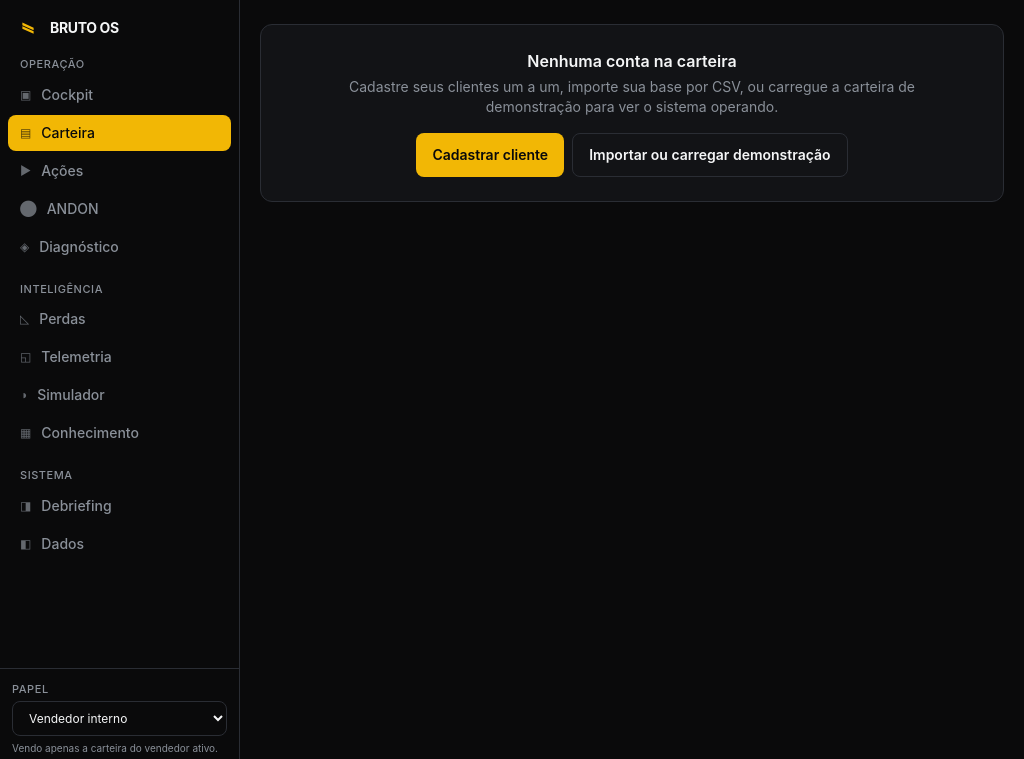
cadastro manual, sem CSV e sem demonstração › sem frota informada, a conta nasce com a lacuna explícita
Expected: the text "Nenhuma conta na carteira" is shown, [527, 51, 737, 71]
Click the button "Cadastrar cliente" at [490, 155], box [416, 133, 564, 177]
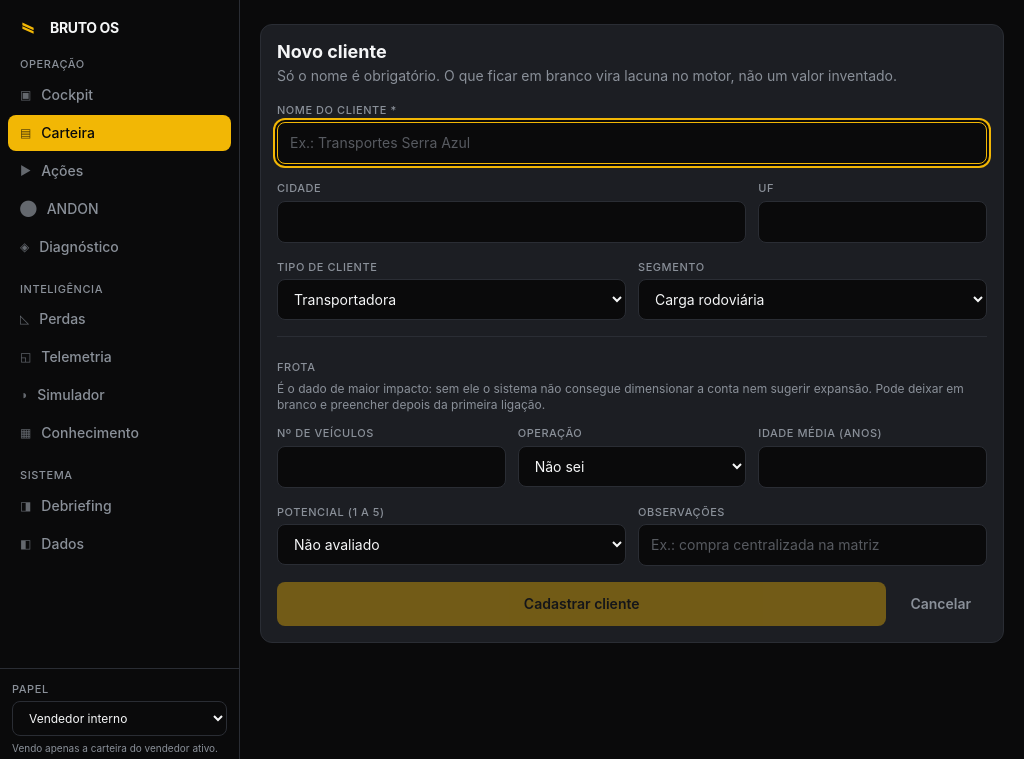
Expected: the heading "Novo cliente" is shown, [277, 41, 387, 62]
Type "Oficina Sem Frota" into the field labelled "Nome do cliente *" at [632, 143], box [277, 122, 987, 164]
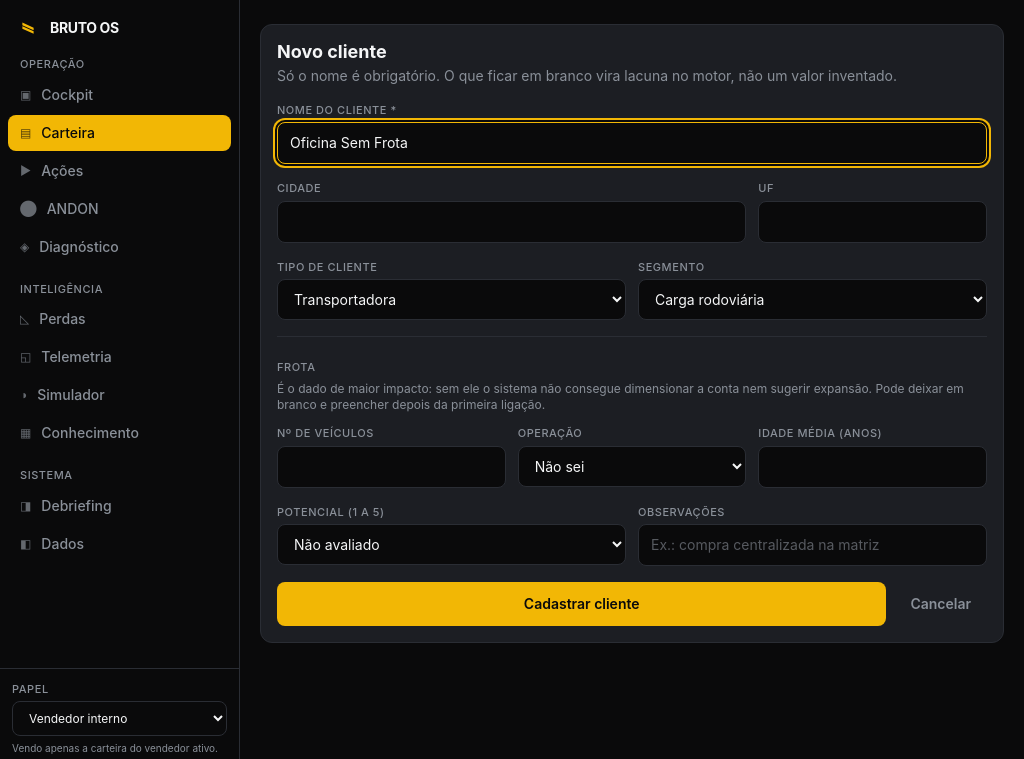
Click the button "Cadastrar cliente" at [582, 604], box [277, 582, 886, 626]
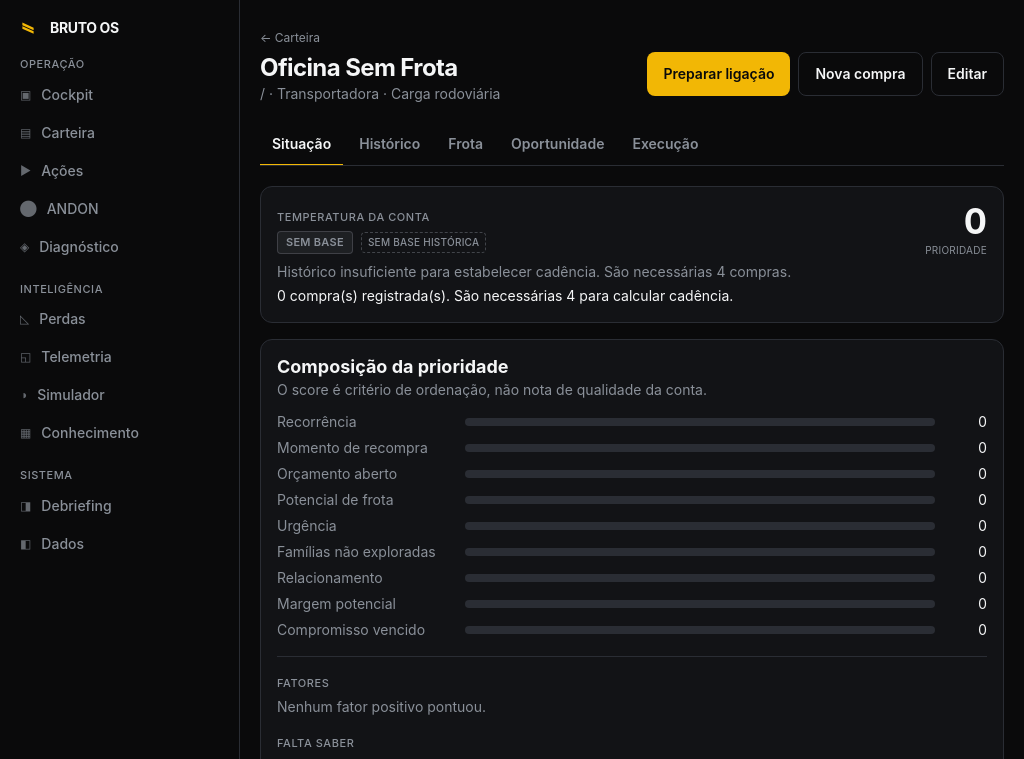
Expected: the heading "Oficina Sem Frota" is shown, [260, 53, 458, 82]
Click the tab "Frota" at [466, 145], box [436, 124, 495, 166]
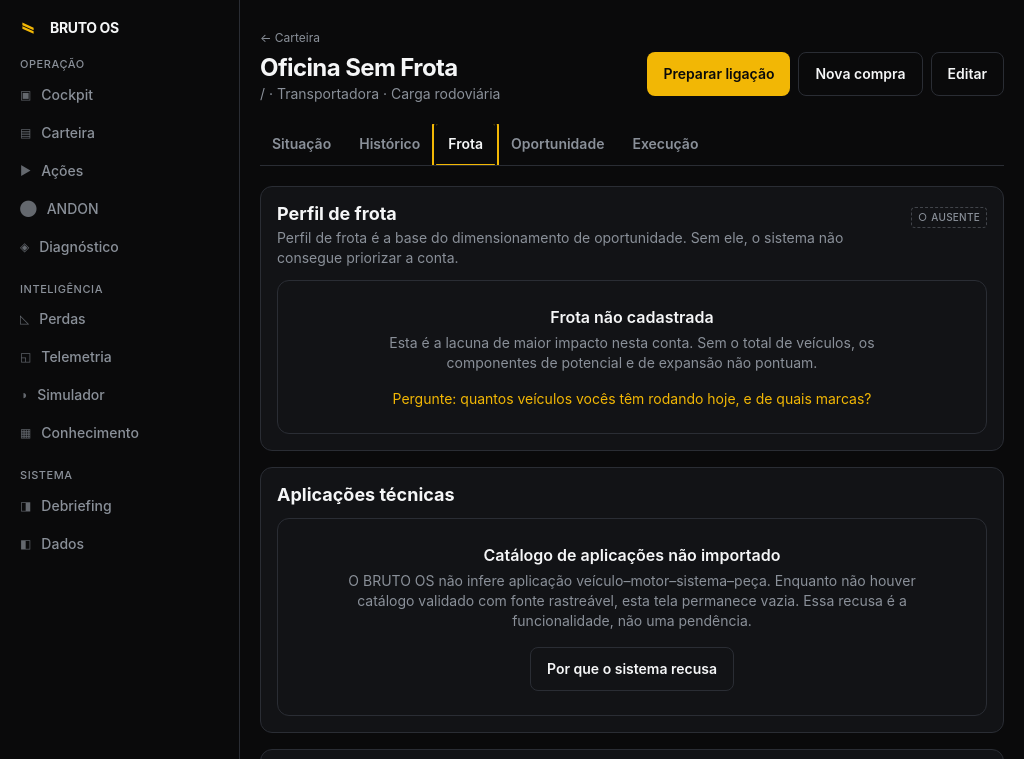
Expected: the text "Frota não cadastrada" is shown, [550, 306, 714, 326]
Expected: the text "quantos veículos vocês têm rodando hoje" is shown, [392, 390, 871, 406]
